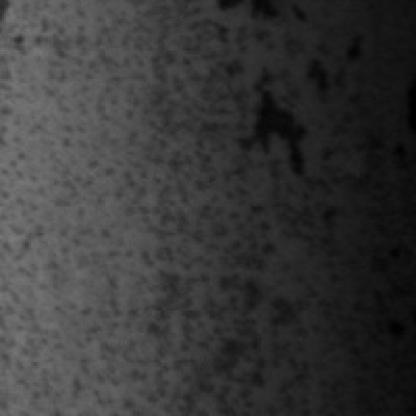pitted_surface: (0, 2, 366, 412)
